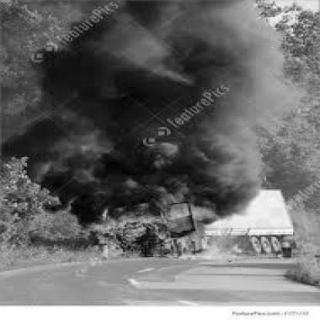Smoke: (31, 5, 267, 197)
